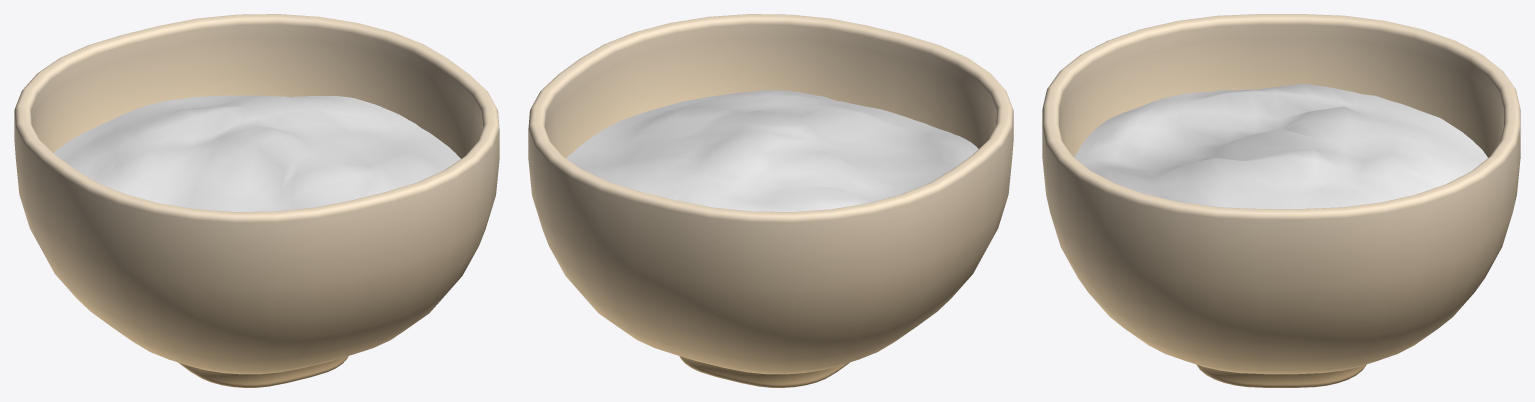
Rendered from bowl_farinha.fbx.
3 views of the same model, side by side, from view 1: azimuth 30°, elevation 25°; view 2: azimuth 150°, elevation 25°; view 3: azimuth 270°, elevation 25° (orthographic).
Visible parts, largest first — view 1: BowlFarinha; view 2: BowlFarinha; view 3: BowlFarinha.
Boxes of the visible parts, bbox=[...] form: BowlFarinha: bbox=[14, 14, 499, 387]; BowlFarinha: bbox=[528, 14, 1013, 387]; BowlFarinha: bbox=[1042, 14, 1520, 387].
Size of the model in its own units: 32.71 by 18.09 by 32.71.
